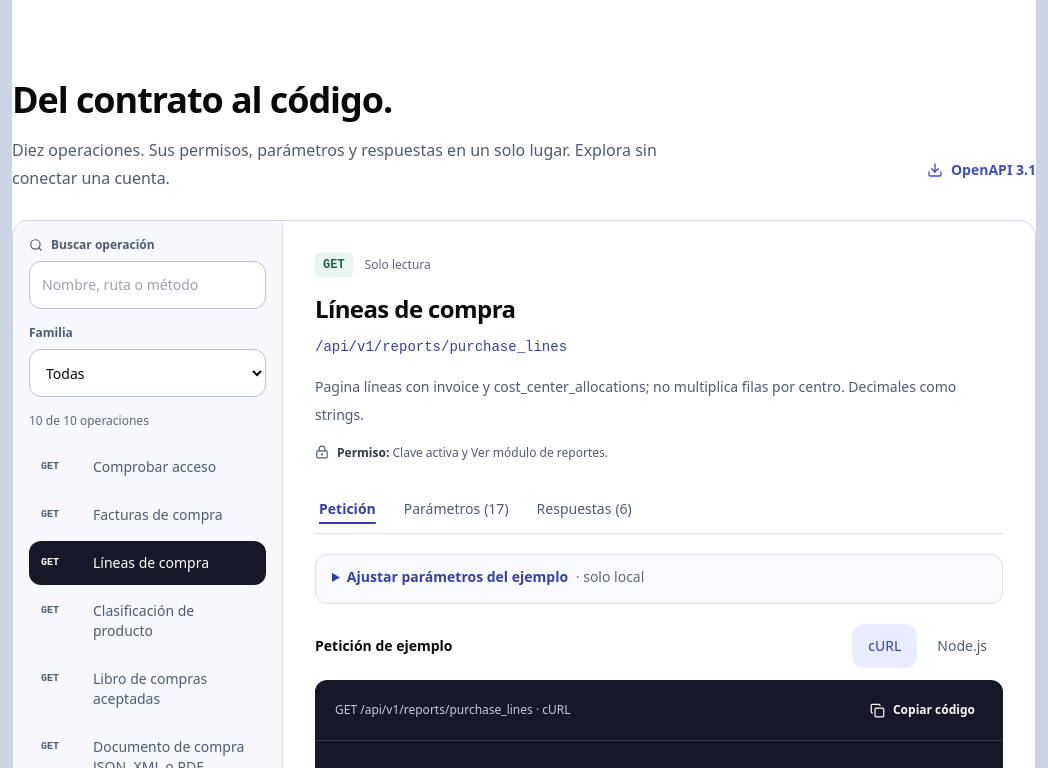
API workspace controls › edits a request, prevents invalid copy/download and restores original examples
Later steps or results of the test are not shown.
Click the heading "Ajustar parámetros del ejemplo · solo local" at coordinates (496, 576), box [347,567,644,586]
(page scrolled)
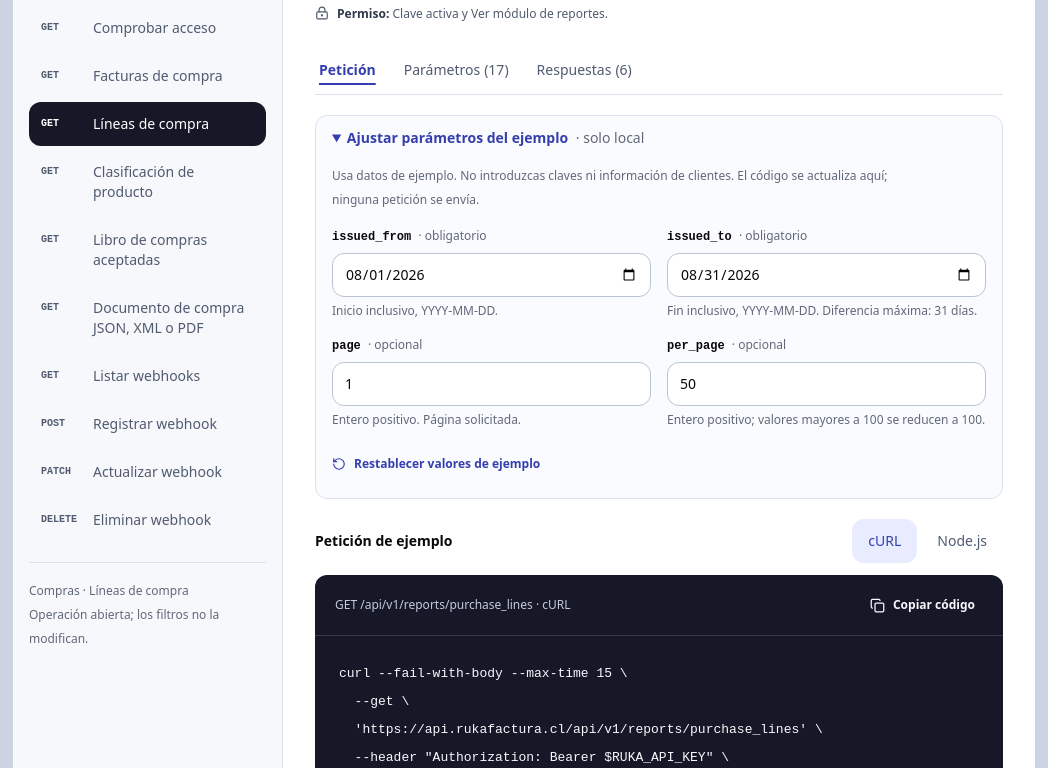
Replace the text in the field labelled "per_page · opcional" with "101" at coordinates (826, 384), box [667,362,986,406]
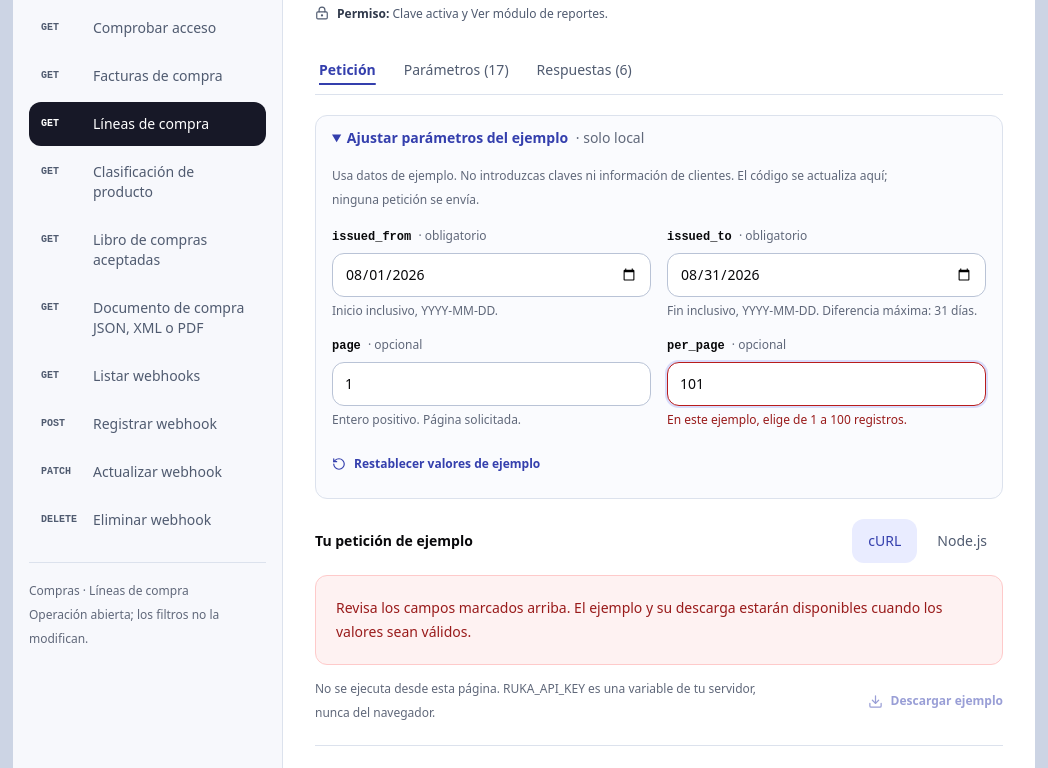
Expected: the button "Copiar código" is not shown
Result: the button "Descargar ejemplo" is disabled at [868,679,1003,723]
